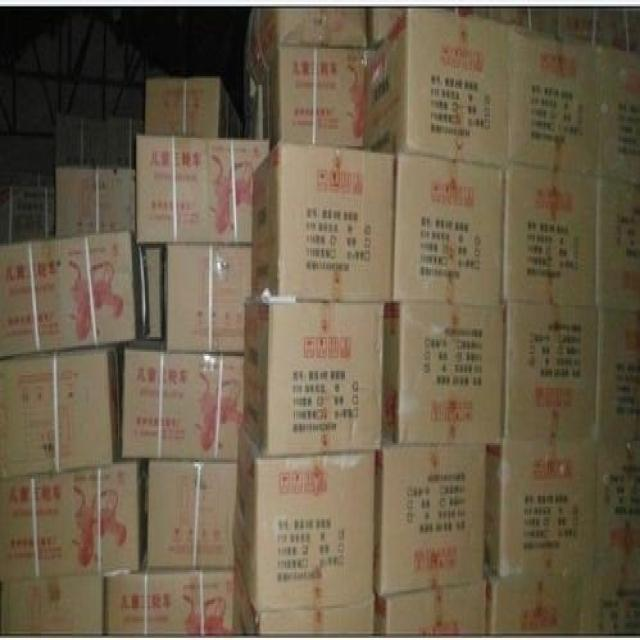box: (232, 424, 375, 612), (242, 295, 383, 458), (251, 142, 395, 301), (366, 8, 508, 165), (0, 231, 149, 360), (391, 150, 504, 307), (382, 301, 503, 447), (0, 462, 146, 581), (373, 441, 487, 593), (0, 345, 121, 481), (485, 441, 598, 579), (122, 339, 241, 460), (135, 136, 268, 244), (501, 165, 598, 309), (508, 23, 598, 176), (501, 301, 598, 441), (244, 9, 367, 117), (259, 48, 371, 153), (232, 553, 373, 636), (146, 462, 236, 572), (165, 244, 251, 352), (105, 570, 233, 636), (485, 564, 580, 636), (144, 76, 243, 140), (0, 576, 104, 636), (596, 178, 640, 314), (595, 312, 640, 443), (375, 583, 486, 636), (598, 47, 640, 182), (55, 167, 135, 237), (596, 443, 640, 570), (580, 572, 640, 638), (368, 8, 406, 46)
